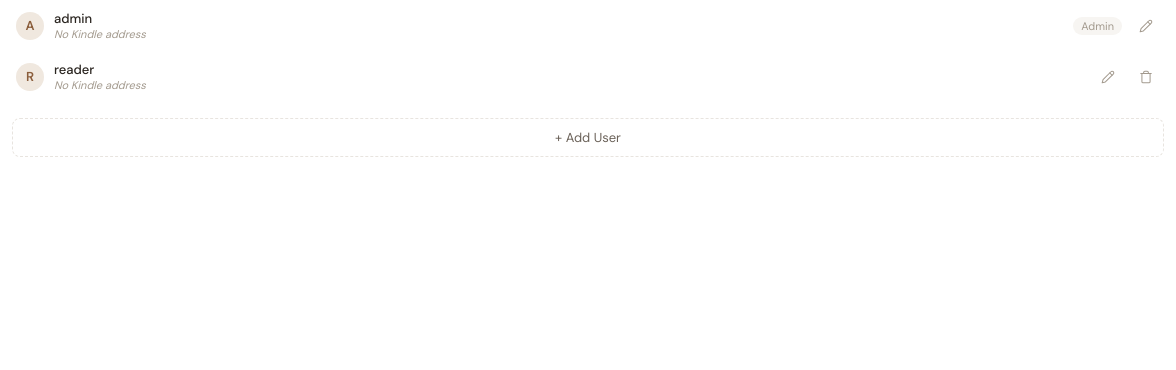
Test: AdminUsersScreen › edits Kindle address and admin status, writing PATCH
Expected: the text "reader" is shown, [54,61,94,78]
Click the button named "Edit reader" at (1108, 76), box [1094,62,1122,90]
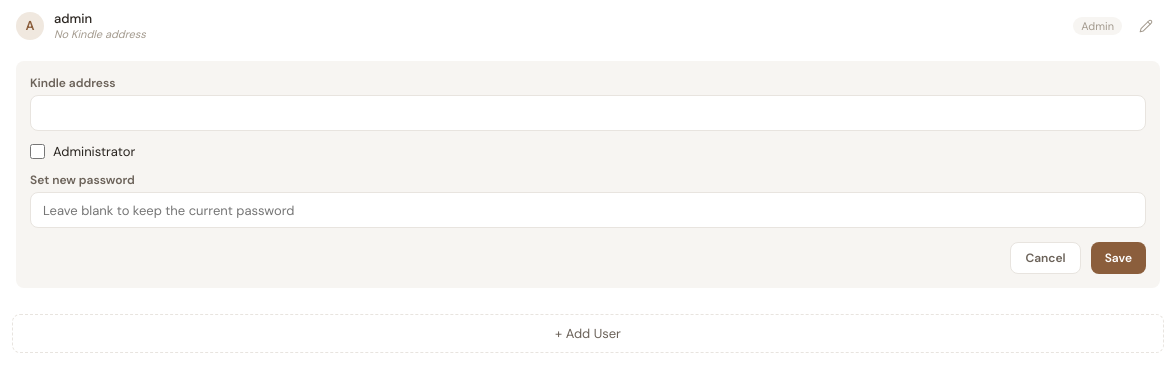
Type "reader@kindle.com" into the field labelled "Kindle address" at (588, 113), box [30,95,1146,131]
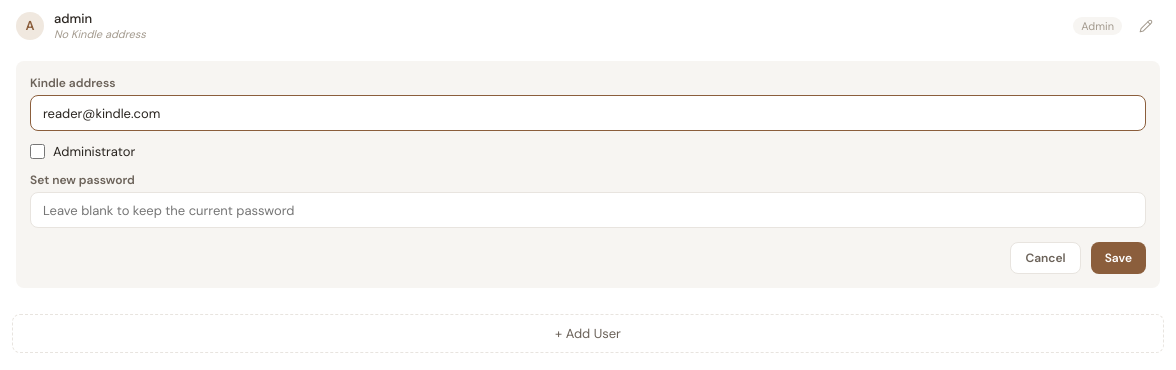
Click the checkbox labelled "Administrator" at (38, 152), box [30,144,45,159]
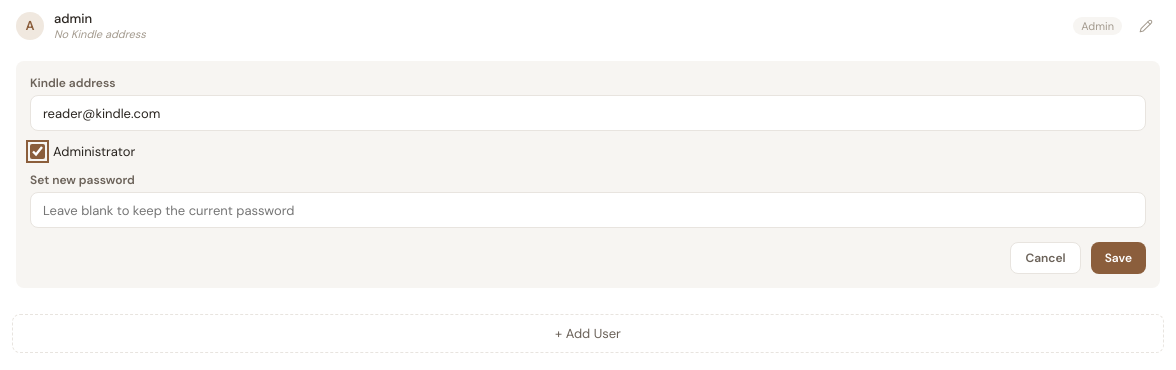
Click the button "Save" at (1118, 258), box [1091,242,1146,274]
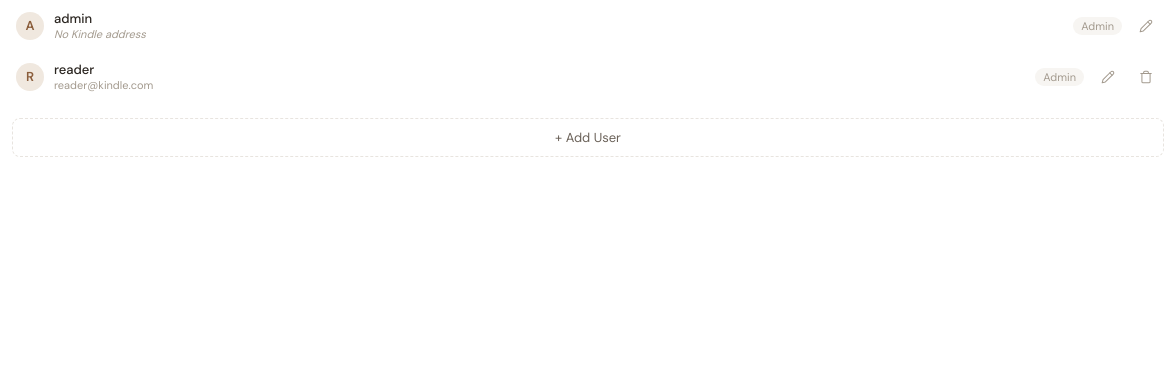
Result: the text "reader@kindle.com" is shown at [54,78,153,92]
